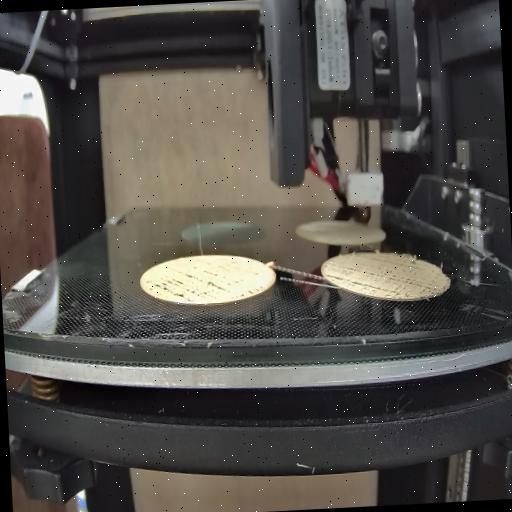under_extrusion: (326, 256, 432, 300), (142, 266, 262, 304)
